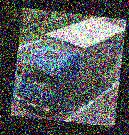truck: (12, 10, 126, 123)
